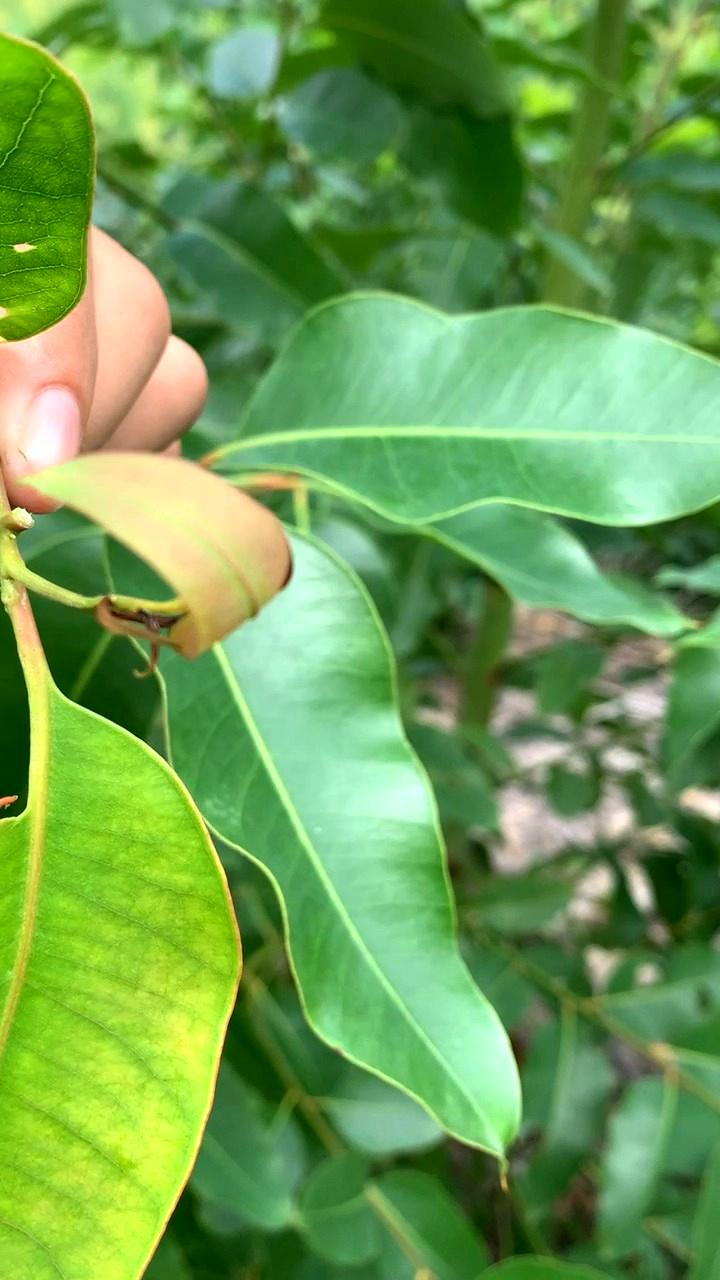Helopeltis-Withered Sprout: (40, 450, 297, 659)
